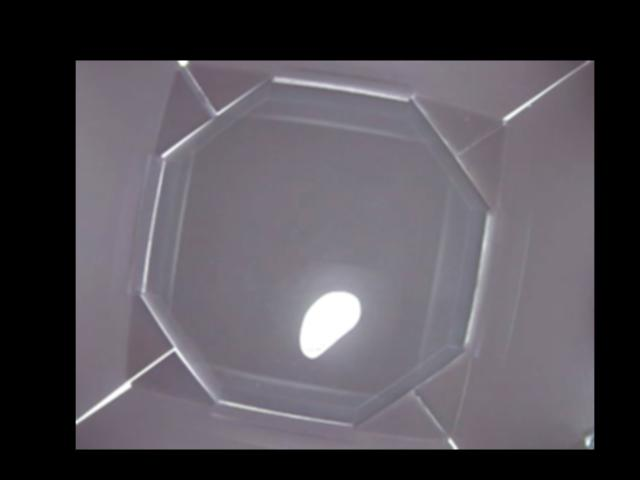Pebble: (299, 290, 362, 358)
